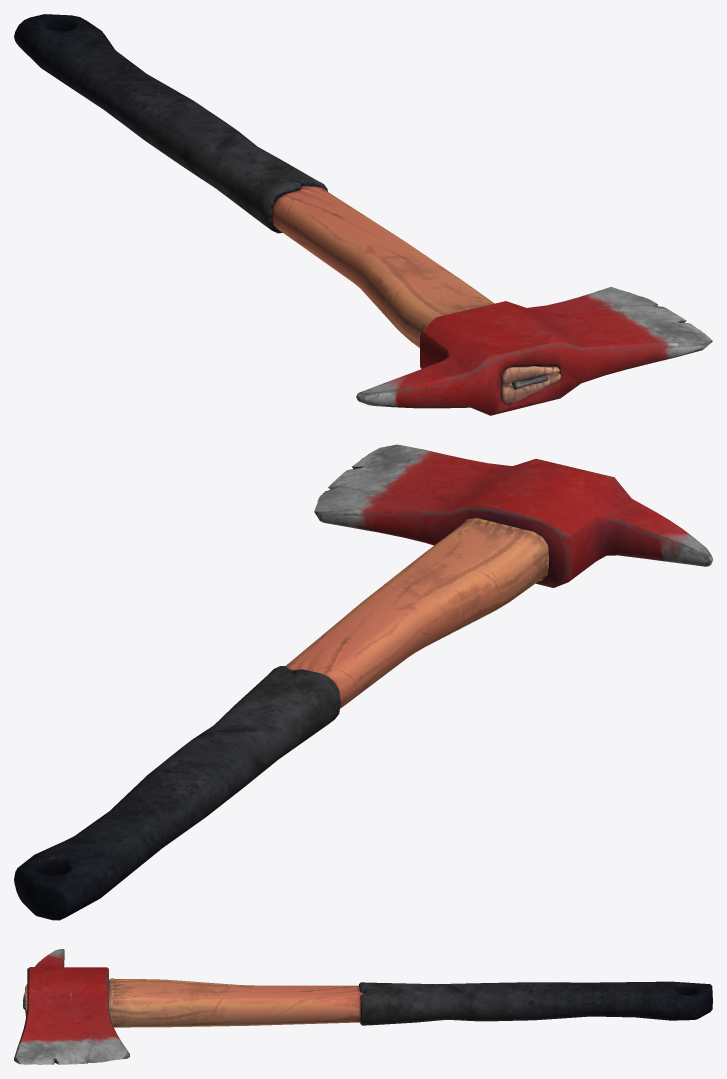
Rendered from axe.obj.
3 views of the same model, one above another, from view 1: azimuth 30°, elevation 25°; view 2: azimuth 150°, elevation 25°; view 3: azimuth 270°, elevation 25° (orthographic). The views are drawn at different scales.
Visible parts, largest first — view 1: sm_fire_axe; view 2: sm_fire_axe; view 3: sm_fire_axe.
Part boxes in pixels (left/top/right/bottom): sm_fire_axe: left=14, top=14, right=712, bottom=415; sm_fire_axe: left=14, top=444, right=712, bottom=920; sm_fire_axe: left=14, top=949, right=712, bottom=1064.
Size of the model in its own units: 1.42 by 0.2453 by 3.69.
